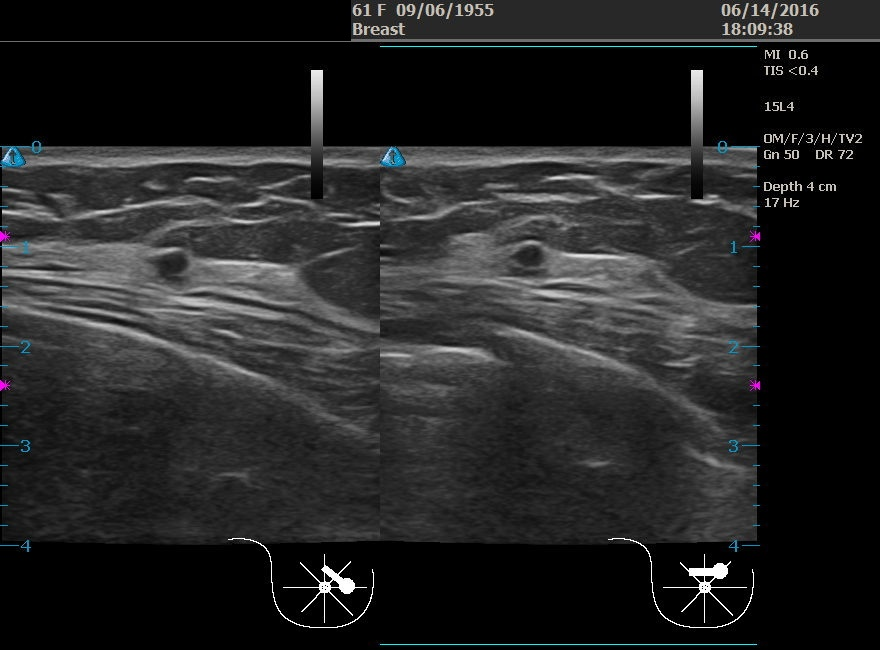BIRADS_2: (64, 187, 264, 387), (435, 176, 635, 376)
